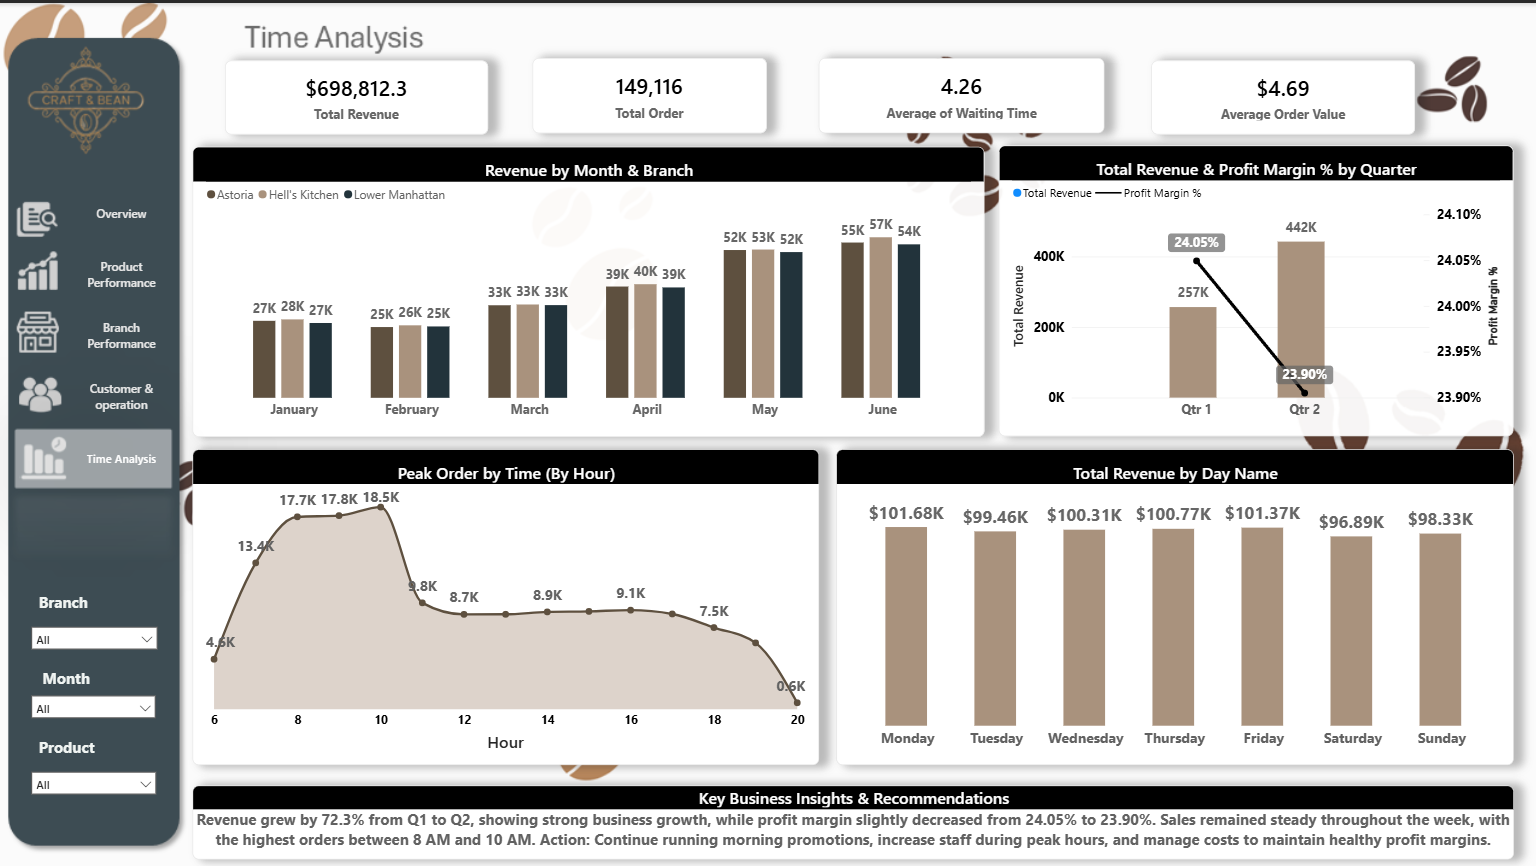

This screenshot's page, from the dashboard's own definition file:
{"tool":"powerbi","page":{"name":"Time Analysis","canvas":[1920,1080],"ordinal":4},"visuals":[{"type":"textbox","box":[58.4,826.7,69.3,30.3],"z":0},{"type":"slicer","fields":{"Values":["coffee_sales.Month Name"]},"box":[41.1,857,164.5,43.3],"z":1000},{"type":"slicer","fields":{"Values":["coffee_sales.product_detail"]},"box":[40.8,951,165,44.2],"z":2000},{"type":"textbox","box":[54.4,911.9,103.8,27.2],"z":3000},{"type":"slicer","fields":{"Values":["coffee_sales.Branch_name"]},"box":[41.1,770.4,166.6,41.1],"z":4000},{"type":"textbox","box":[54.4,731.6,78.3,39.1],"z":5000},{"type":"pageNavigator","box":[91.9,228,131,374.3],"z":6000},{"type":"clusteredColumnChart","title":"Revenue by Month & Branch","fields":{"Category":["coffee_sales.Month Name"],"Series":["coffee_sales.Branch_name"],"Y":["Measures_Table.Total Revenue"]},"box":[245,178.6,985.1,360.7],"z":7000},{"type":"columnChart","fields":{"Category":["coffee_sales.Day Name"],"Y":["Measures_Table.Total Revenue"]},"box":[1046.3,554.6,842.2,393],"z":8000},{"type":"lineClusteredColumnComboChart","title":"Total Revenue & Profit Margin % by Quarter","fields":{"Category":["coffee_sales.transaction_date.Variation.Date Hierarchy.Quarter"],"Y":["Measures_Table.Total Revenue"],"Y2":["Measures_Table.Profit Margin %"]},"box":[1247.6,178,640,361.3],"z":9000},{"type":"areaChart","title":"Peak Order by Time (By Hour) ","fields":{"Category":["coffee_sales.Hour"],"Y":["Measures_Table.Total Order"]},"box":[245,554.6,779.2,393],"z":10000},{"type":"card","fields":{"Values":["Avg(coffee_sales.waiting_time)"]},"box":[1024.2,68.1,355.6,93.6],"z":11000},{"type":"card","fields":{"Values":["coffee_sales.Average Order Value"]},"box":[1437.6,71.5,328.4,91.9],"z":12000},{"type":"card","fields":{"Values":["Measures_Table.Total Order"]},"box":[668.6,68.1,290.9,93.6],"z":12001},{"type":"card","fields":{"Values":["Measures_Table.Total Revenue"]},"box":[285.8,71.9,327.2,91.7],"z":12002},{"type":"textbox","title":"Key Business Insights & Recommendations","box":[245,973.2,1643.5,91.9],"z":12003}]}

Visuals, with their boxes on the page's 1920x1080 design canvas (x1, y1, x2, y2). These are canvas units, not pixel positions in the 1536x866 screenshot, which may show the page scaled, cropped or inside an application window:
textbox: detection(58, 827, 128, 857)
slicer - coffee_sales.Month Name: detection(41, 857, 206, 900)
slicer - coffee_sales.product_detail: detection(41, 951, 206, 995)
textbox: detection(54, 912, 158, 939)
slicer - coffee_sales.Branch_name: detection(41, 770, 208, 812)
textbox: detection(54, 732, 133, 771)
pageNavigator: detection(92, 228, 223, 602)
"Revenue by Month & Branch" clusteredColumnChart: detection(245, 179, 1230, 539)
columnChart - coffee_sales.Day Name x Measures_Table.Total Revenue: detection(1046, 555, 1888, 948)
"Total Revenue & Profit Margin % by Quarter" lineClusteredColumnComboChart: detection(1248, 178, 1888, 539)
"Peak Order by Time (By Hour) " areaChart: detection(245, 555, 1024, 948)
card - Avg(coffee_sales.waiting_time): detection(1024, 68, 1380, 162)
card - coffee_sales.Average Order Value: detection(1438, 72, 1766, 163)
card - Measures_Table.Total Order: detection(669, 68, 960, 162)
card - Measures_Table.Total Revenue: detection(286, 72, 613, 164)
"Key Business Insights & Recommendations" textbox: detection(245, 973, 1888, 1065)
